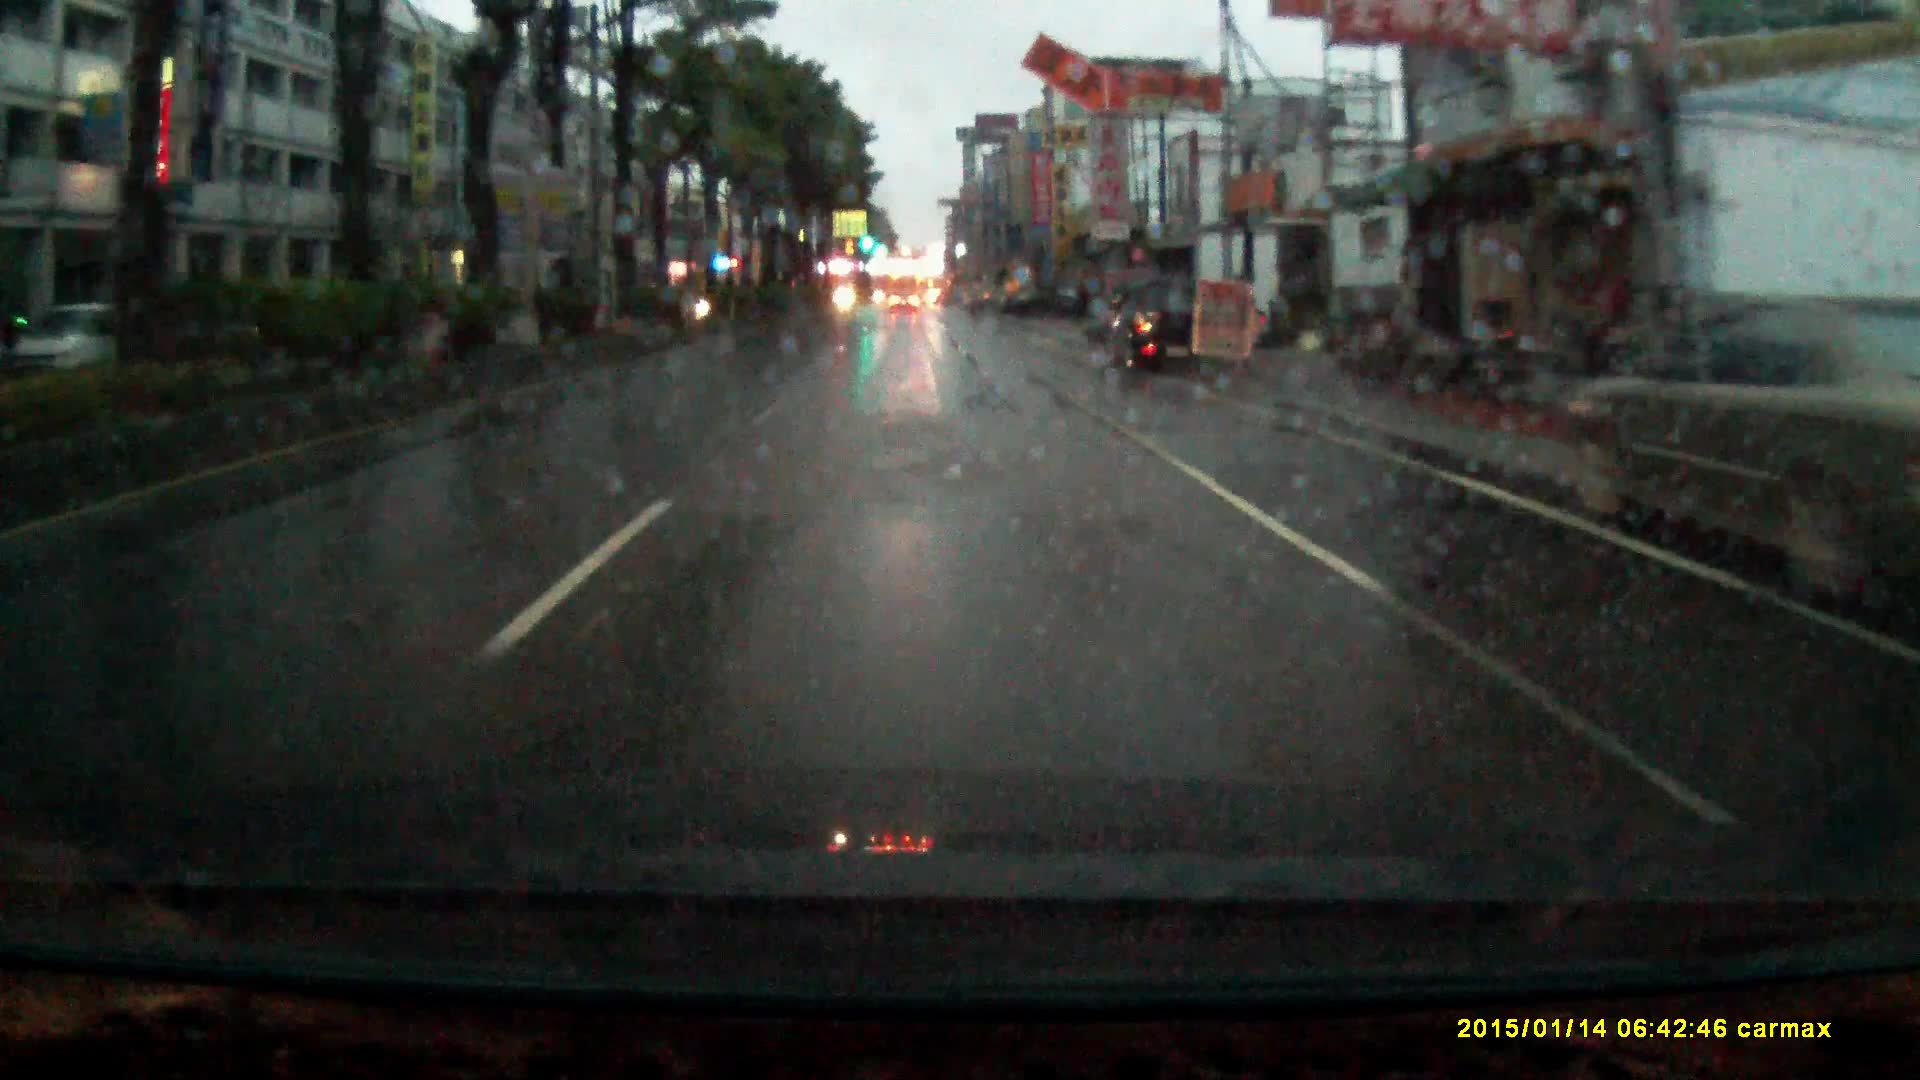vehicle: (1571, 324, 1920, 574), (1087, 282, 1226, 385), (891, 295, 919, 319)
